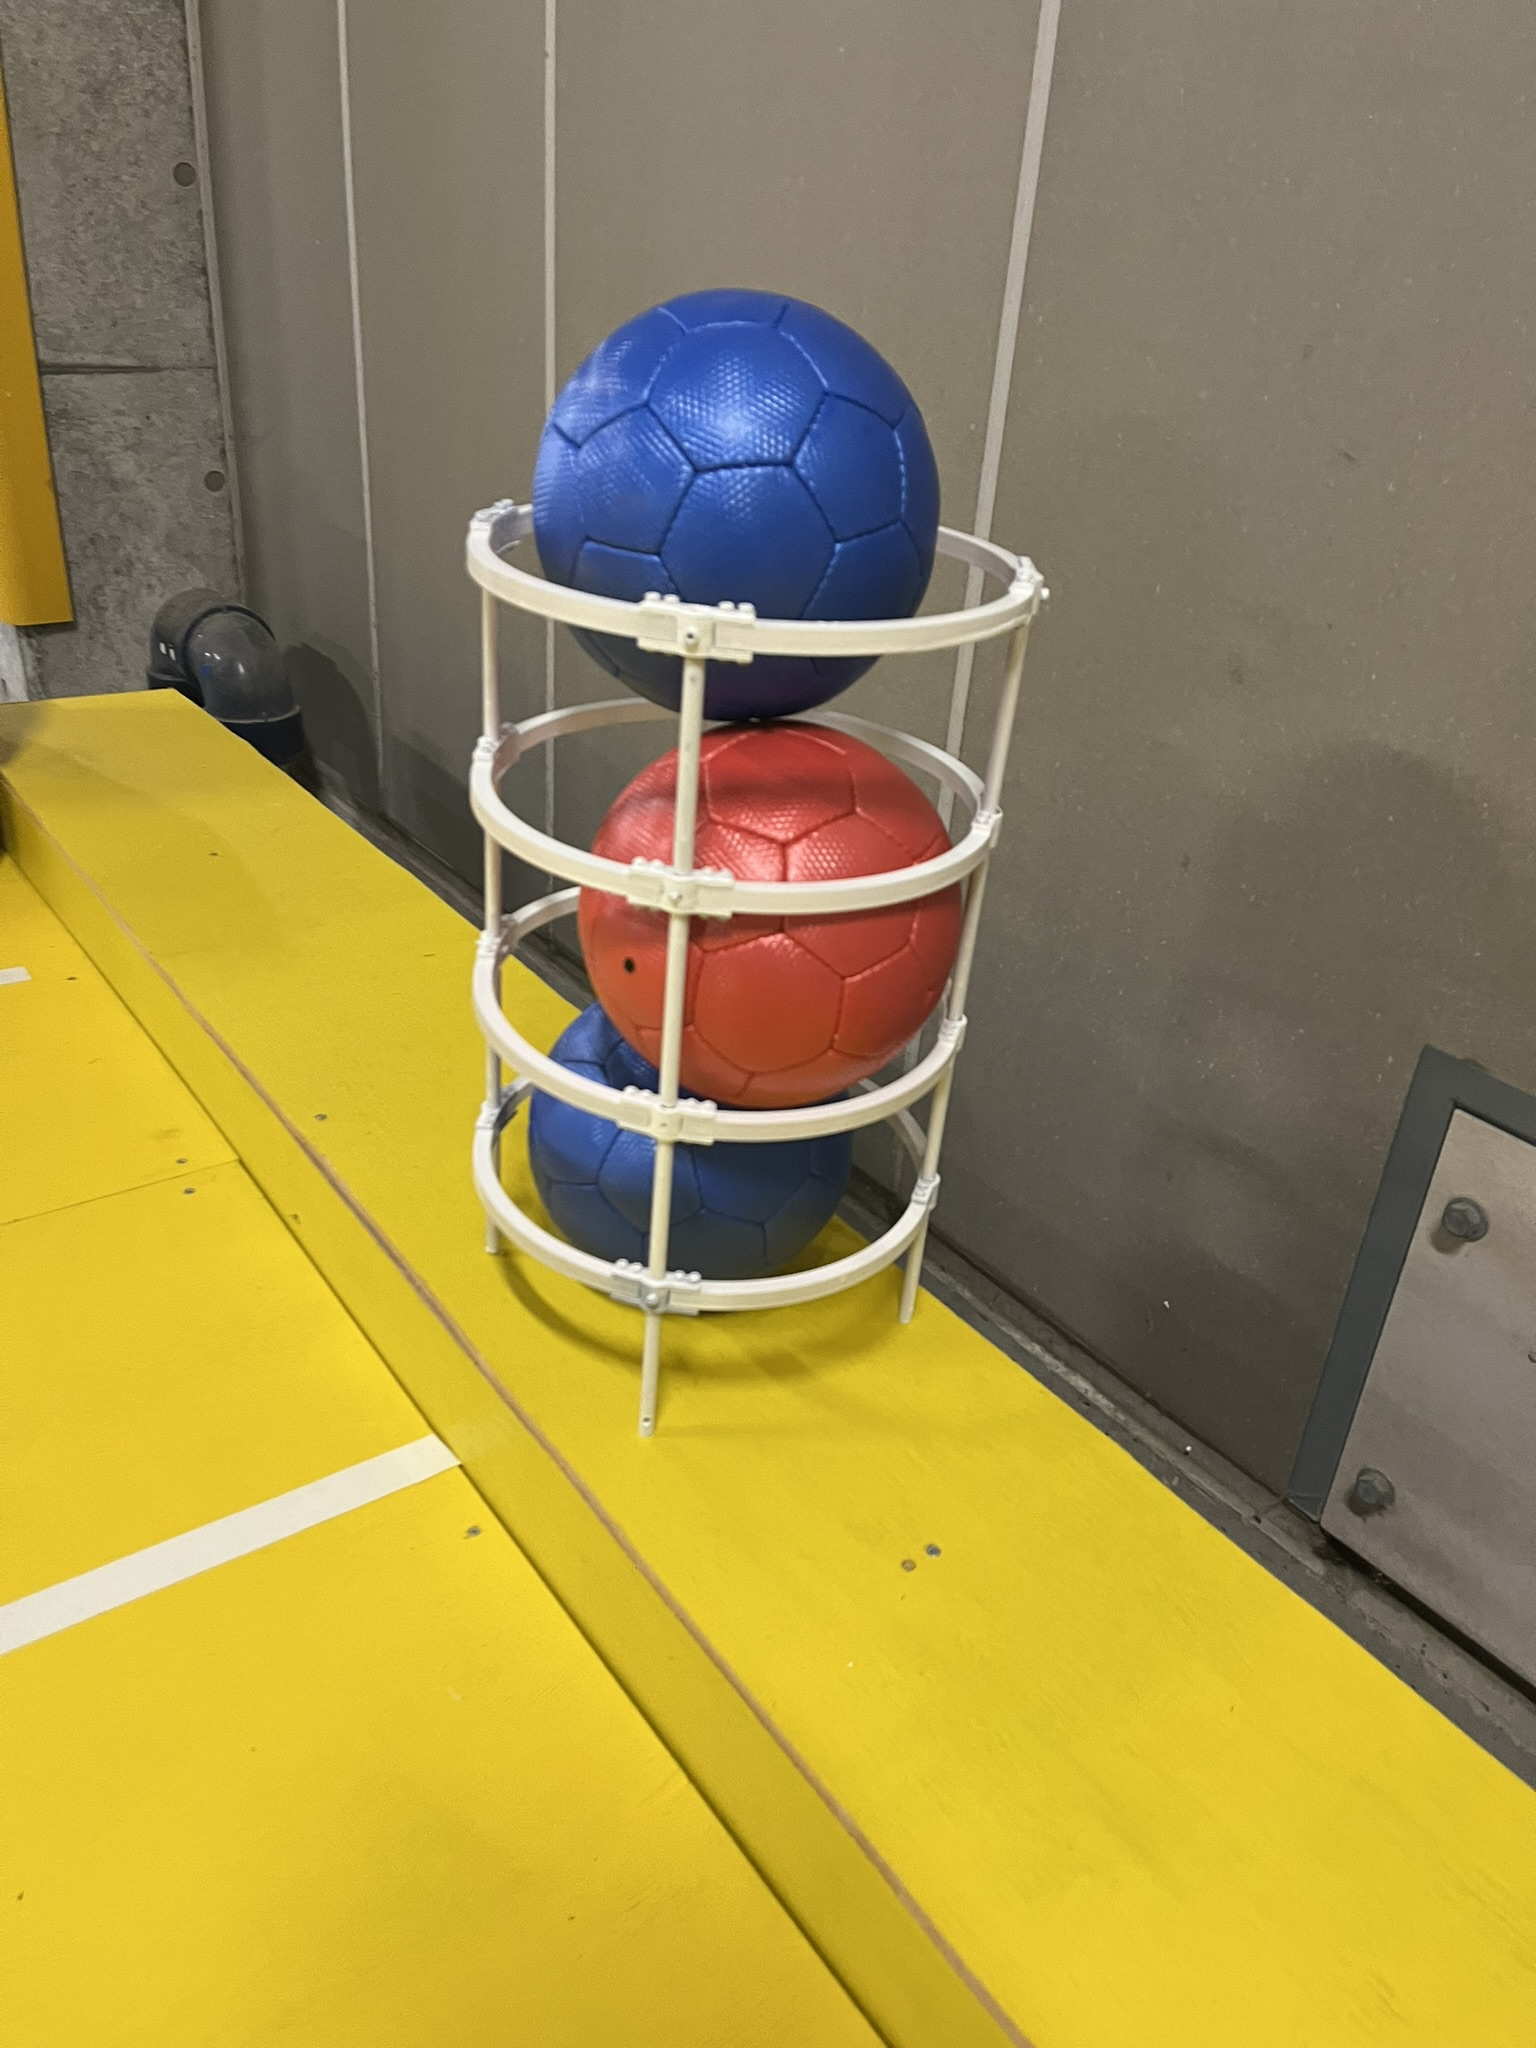blue: (510, 271, 954, 714), (502, 966, 874, 1284)
